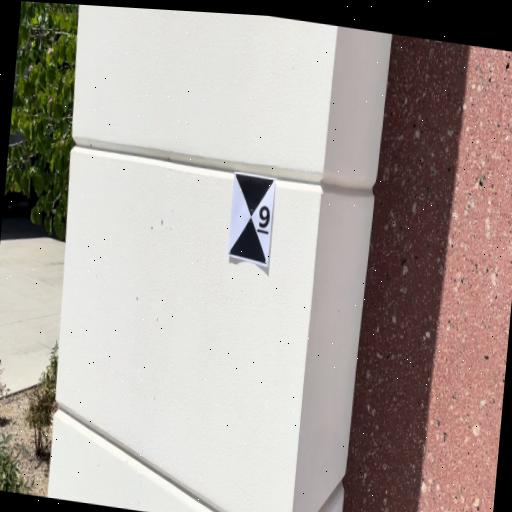target9: (227, 171, 276, 267)
